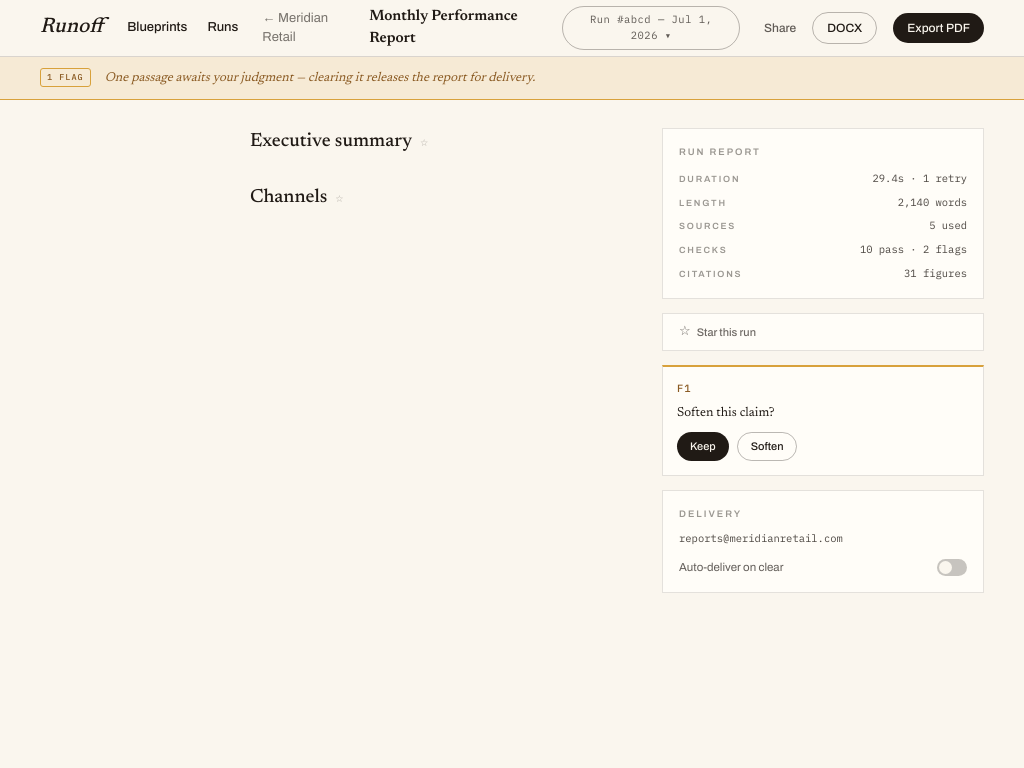
Scenario: Reader — status banner › flips to the ink cleared banner when the last flag resolves
The image size is (1024, 768).
Click the button "Keep". click: point(703, 447)
box: [677,432,729,461]
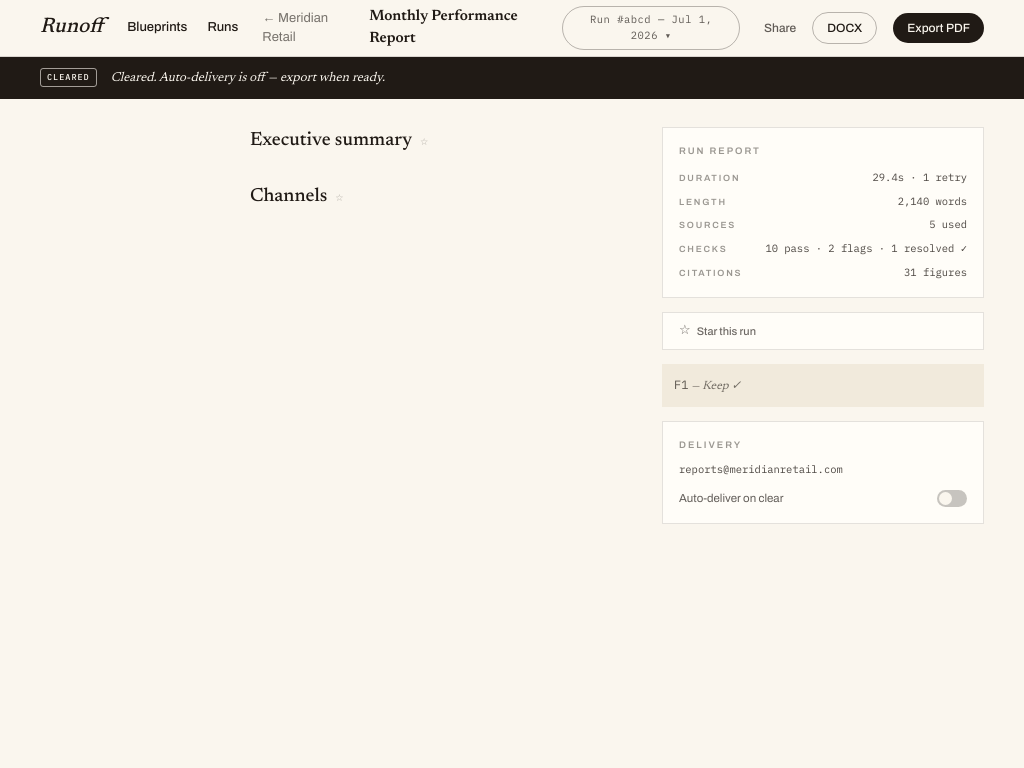
Check: the element with test id "status-banner" shows "Auto-delivery is off", box [111,71,385,84]
